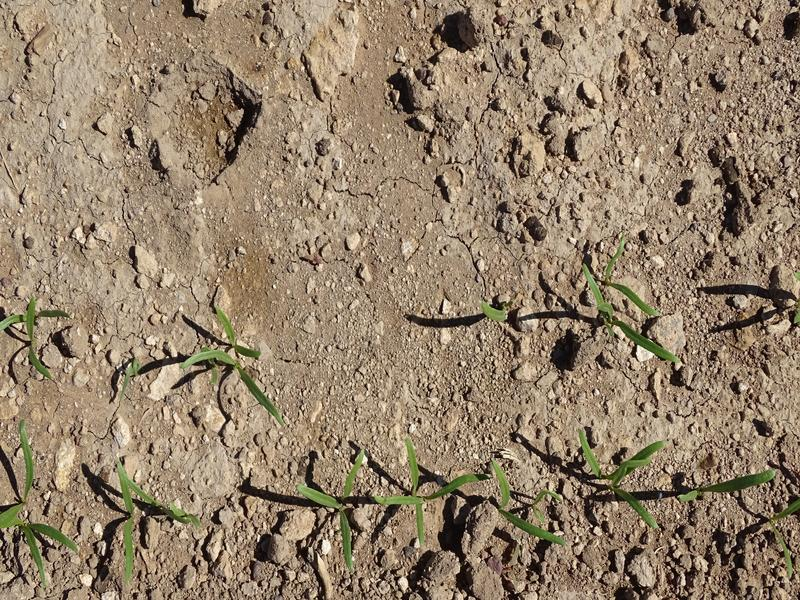Espinaca: (302, 450, 451, 545), (580, 241, 684, 366), (184, 301, 281, 420), (5, 418, 64, 572), (576, 427, 664, 524), (485, 459, 575, 542), (111, 454, 178, 565), (6, 300, 64, 385), (677, 471, 774, 504), (474, 297, 512, 327)
